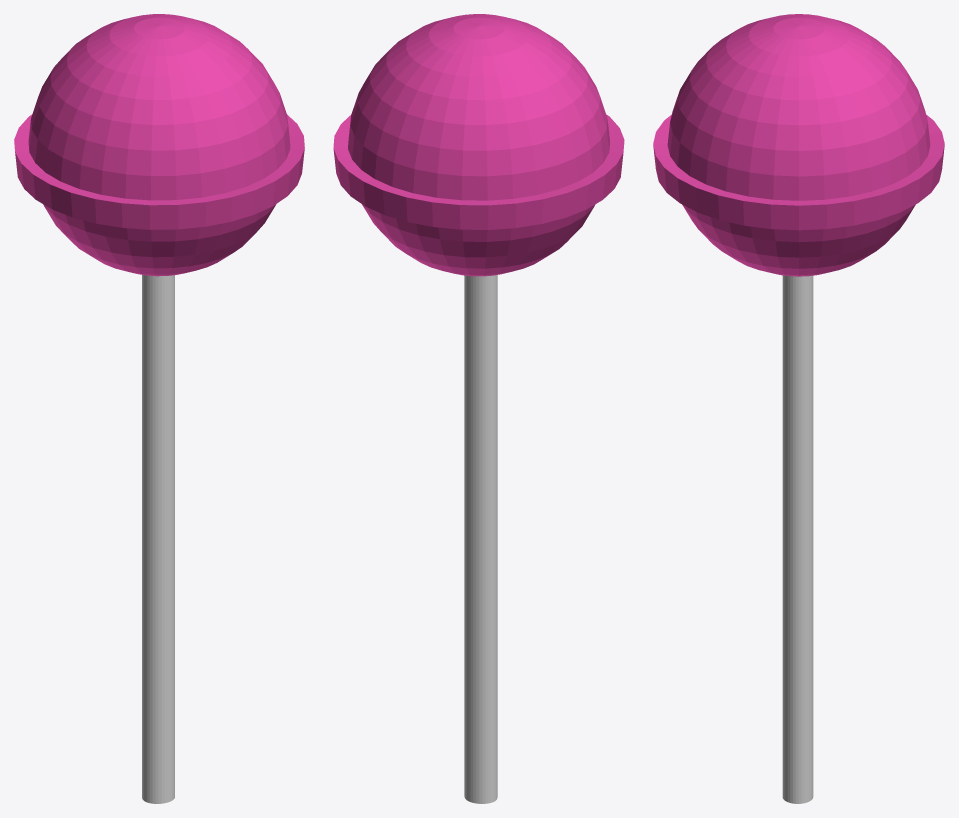
The model's file is marshPop2.fbx.
The picture shows the model from 3 angles, left to right: view 1: azimuth 30°, elevation 25°; view 2: azimuth 150°, elevation 25°; view 3: azimuth 270°, elevation 25°; orthographic projection.
Visible parts, largest first — view 1: Circle; view 2: Circle; view 3: Circle.
Boxes of the visible parts, box(x1,y1,x2,y2) form: Circle: box(14, 14, 304, 803); Circle: box(333, 14, 624, 803); Circle: box(653, 14, 944, 803).
Bounding box in the file's own units: 41.65 × 122 × 41.65.
